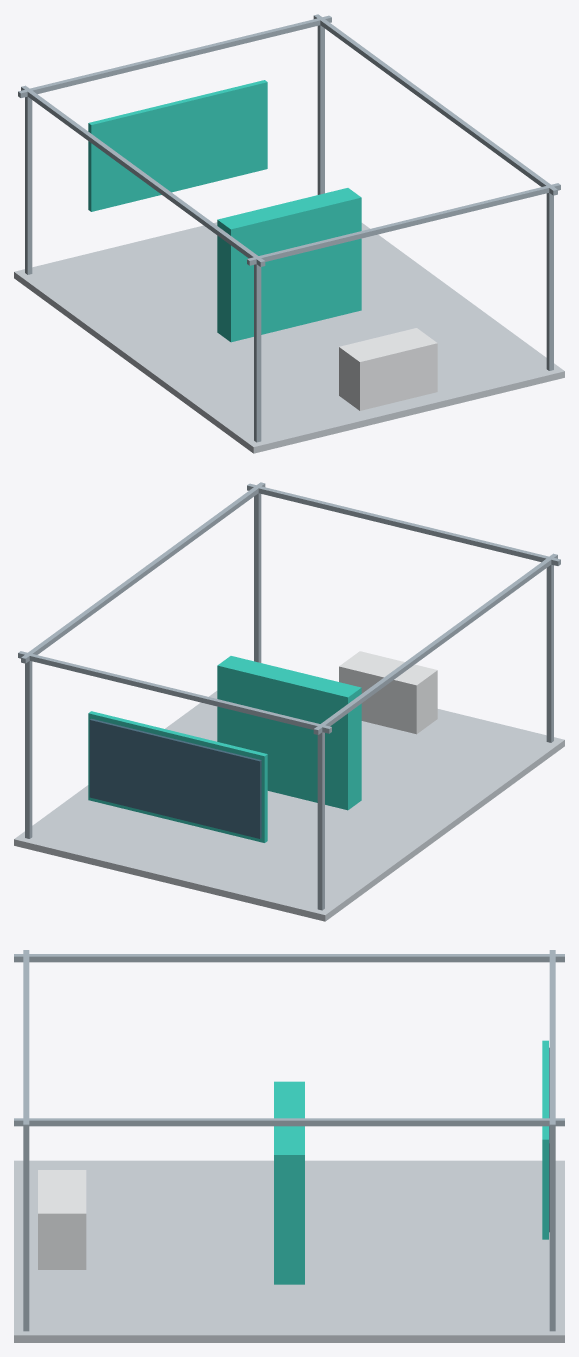
3 renders of one model, top to bottom at view 1: azimuth 30°, elevation 25°; view 2: azimuth 150°, elevation 25°; view 3: azimuth 270°, elevation 25°, orthographic. The views are drawn at different scales.
Parts seen in each view (by area): view 1: Exhibition Booth Concept; view 2: Exhibition Booth Concept; view 3: Exhibition Booth Concept.
Boxes of the visible parts, x1,y1,x2,y2 form: Exhibition Booth Concept: (14, 14, 564, 453); Exhibition Booth Concept: (14, 482, 564, 921); Exhibition Booth Concept: (14, 950, 564, 1342).
Size of the model in its own units: 6 by 3.49 by 8.
